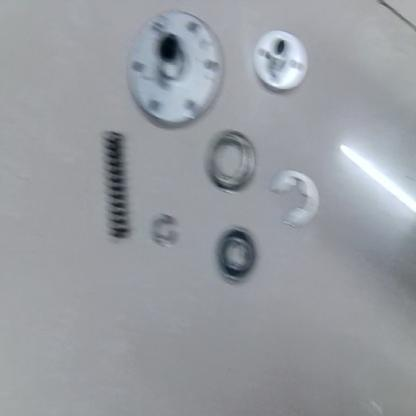FOD: (124, 11, 225, 128), (96, 125, 133, 246), (250, 26, 310, 92), (203, 128, 259, 194), (269, 169, 318, 227), (215, 226, 261, 284), (149, 208, 182, 248)
